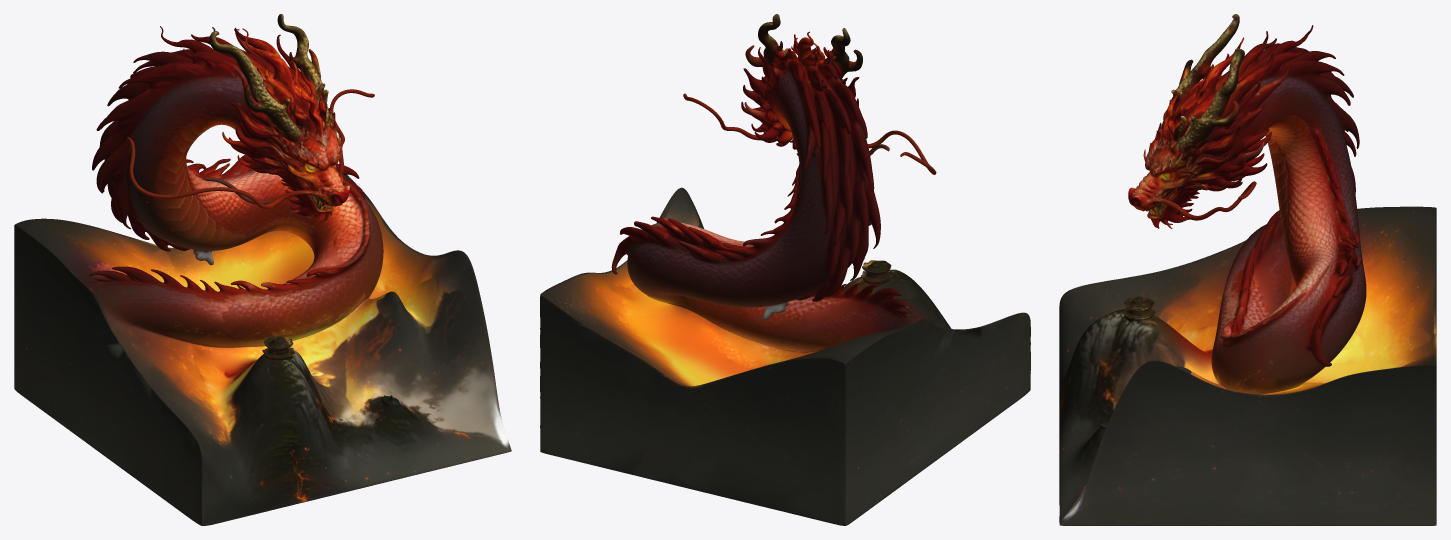
The model's file is chu-shuo.glb.
3 renders of one model, left to right at view 1: azimuth 30°, elevation 25°; view 2: azimuth 150°, elevation 25°; view 3: azimuth 270°, elevation 25°, orthographic.
Visible parts, largest first — view 1: node_0; view 2: node_0; view 3: node_0.
Boxes of the visible parts, x1,y1,x2,y2 form: node_0: (14, 14, 511, 525); node_0: (540, 14, 1030, 525); node_0: (1059, 14, 1436, 525).
Bounding box in the file's own units: 0.6269 × 0.7871 × 0.6574.
Materials: 1 (1 with a texture image).
